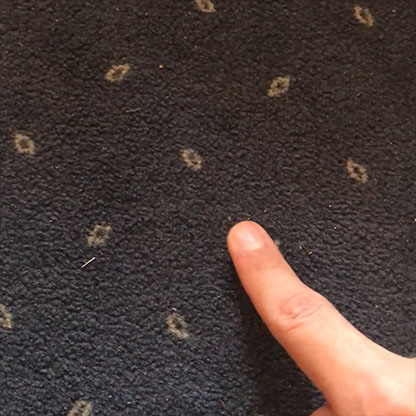fingertip: (218, 220, 287, 265)
